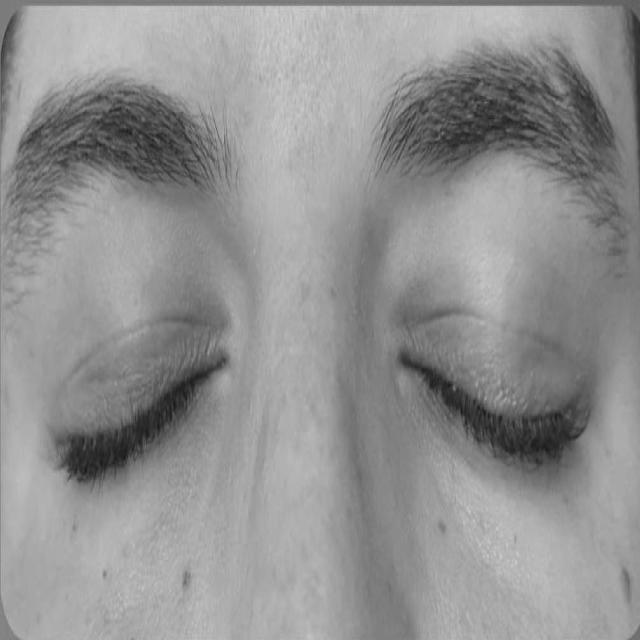real: (21, 153, 624, 567)
